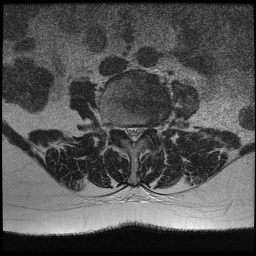CCS_stenosis: (131, 120, 137, 149)
LFS_severe_stenosis: (145, 119, 151, 137)
LLS_stenosis: (137, 121, 145, 141)
RFS_severe_stenosis: (117, 120, 125, 138)
RLS_normal: (124, 121, 131, 143)
